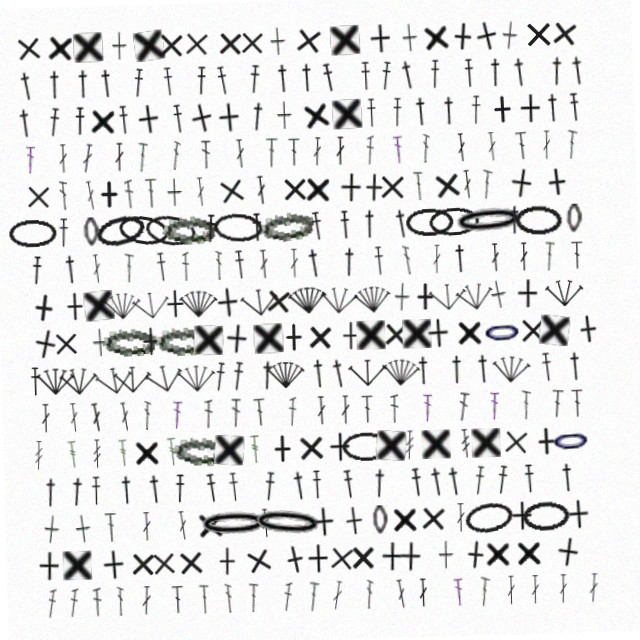chain: (245, 504, 319, 540), (455, 209, 528, 242), (96, 206, 150, 245), (192, 507, 264, 536), (146, 207, 200, 245), (119, 207, 174, 244), (261, 208, 318, 243), (457, 504, 510, 540), (215, 209, 267, 242), (169, 432, 224, 463), (165, 211, 219, 241), (155, 322, 209, 352), (431, 210, 483, 241), (102, 322, 156, 351), (517, 211, 566, 241), (516, 507, 565, 537), (338, 433, 388, 462), (11, 211, 60, 240), (408, 211, 457, 240), (547, 432, 588, 463), (482, 322, 522, 352), (86, 211, 102, 240), (569, 211, 585, 240), (367, 507, 382, 536)
double: (85, 137, 99, 167), (87, 396, 101, 426), (454, 396, 468, 426), (298, 581, 312, 611), (520, 137, 534, 166), (548, 396, 562, 425), (140, 137, 153, 167), (88, 174, 101, 204), (484, 174, 497, 204), (116, 396, 129, 426), (323, 581, 336, 611), (387, 581, 400, 611), (470, 581, 483, 611), (270, 137, 283, 166), (570, 137, 583, 166), (544, 248, 557, 277), (251, 396, 264, 425), (99, 507, 112, 536), (239, 137, 251, 166), (293, 137, 305, 166), (491, 137, 503, 166), (149, 174, 161, 203), (259, 174, 271, 203), (573, 248, 585, 277), (359, 396, 371, 425), (569, 396, 581, 425), (171, 507, 183, 536), (164, 581, 176, 610), (239, 581, 251, 610), (580, 581, 592, 610), (175, 137, 186, 166), (461, 137, 472, 166), (199, 174, 210, 203), (466, 174, 477, 203), (93, 248, 104, 277), (125, 248, 136, 277), (260, 248, 271, 277), (66, 396, 77, 425), (169, 396, 180, 425), (228, 396, 239, 425), (518, 396, 529, 425), (133, 581, 144, 610), (30, 137, 40, 166), (63, 137, 73, 166), (119, 137, 129, 166), (206, 137, 216, 166), (317, 137, 327, 166), (340, 137, 350, 166), (398, 137, 408, 166), (128, 174, 138, 203), (417, 174, 427, 203), (291, 248, 301, 277), (404, 248, 414, 277), (492, 248, 502, 277), (38, 396, 48, 425), (314, 396, 324, 425), (338, 396, 348, 425), (420, 396, 430, 425), (487, 396, 497, 425), (136, 507, 146, 536), (255, 507, 265, 536), (450, 507, 460, 536), (39, 581, 49, 610), (61, 581, 71, 610), (191, 581, 201, 610), (275, 581, 285, 610), (446, 581, 456, 610), (426, 137, 435, 166), (547, 137, 556, 166), (434, 248, 443, 277), (521, 248, 530, 277), (140, 396, 149, 425), (85, 581, 94, 610), (357, 581, 366, 610), (411, 581, 420, 610), (499, 581, 508, 610), (523, 581, 532, 610), (551, 581, 560, 610), (371, 137, 379, 166), (63, 174, 71, 203), (202, 396, 210, 425), (286, 396, 294, 425), (388, 396, 396, 425), (217, 581, 225, 610), (184, 248, 191, 277), (217, 248, 224, 277), (109, 581, 116, 610)
fan: (142, 356, 184, 391), (92, 357, 134, 391), (455, 283, 496, 317), (131, 283, 172, 316), (240, 284, 280, 316), (320, 284, 360, 316), (353, 284, 393, 316), (380, 358, 420, 390), (490, 358, 530, 390), (289, 284, 328, 315), (429, 284, 468, 315), (180, 285, 218, 315), (58, 359, 96, 389), (176, 359, 214, 389), (104, 285, 142, 314), (546, 285, 584, 314), (35, 359, 73, 388), (112, 359, 150, 388), (265, 359, 303, 388), (347, 359, 385, 388)
half_double: (405, 62, 425, 93), (24, 63, 43, 93), (254, 100, 273, 130), (395, 211, 414, 241), (328, 359, 347, 389), (63, 470, 82, 500), (423, 470, 442, 500), (518, 63, 536, 93), (555, 63, 573, 93), (576, 63, 594, 93), (22, 100, 40, 130), (307, 248, 325, 278), (342, 248, 360, 278), (257, 359, 275, 389), (37, 470, 55, 500), (286, 470, 304, 500), (366, 470, 384, 500), (441, 470, 459, 500), (53, 63, 70, 92), (105, 63, 122, 92), (494, 63, 511, 92), (364, 211, 381, 240), (509, 211, 526, 240), (64, 248, 81, 277), (309, 359, 326, 388), (447, 359, 464, 388), (142, 470, 159, 499), (82, 63, 98, 92), (282, 63, 298, 92), (306, 63, 322, 92), (419, 100, 435, 129), (447, 100, 463, 129), (551, 100, 567, 129), (454, 248, 470, 277), (414, 359, 430, 388), (474, 359, 490, 388), (566, 359, 582, 388), (114, 470, 130, 499), (555, 470, 571, 499), (222, 63, 237, 93), (328, 63, 343, 93), (211, 359, 226, 389), (229, 359, 244, 389), (467, 470, 482, 500), (490, 470, 505, 500), (138, 63, 152, 93), (386, 63, 400, 93), (53, 100, 67, 130), (177, 100, 191, 130), (313, 211, 327, 241), (200, 470, 214, 500), (258, 470, 272, 500), (337, 470, 351, 500), (405, 470, 419, 500), (169, 63, 182, 92), (255, 63, 268, 92), (123, 100, 136, 129), (574, 100, 587, 129), (32, 248, 45, 277), (157, 248, 170, 277), (235, 248, 248, 277), (539, 359, 552, 388), (223, 470, 236, 499), (202, 63, 214, 92), (436, 63, 448, 92), (470, 63, 482, 92), (397, 100, 409, 129), (476, 100, 488, 129), (60, 211, 72, 240), (207, 211, 219, 240), (342, 211, 354, 240), (375, 248, 387, 277), (169, 470, 181, 499), (519, 470, 531, 499), (367, 63, 378, 92), (80, 100, 91, 129), (372, 100, 383, 129), (254, 211, 265, 240), (28, 359, 39, 388), (86, 470, 97, 499), (307, 470, 318, 499)
single: (235, 542, 269, 576), (300, 24, 333, 57), (556, 24, 589, 57), (219, 172, 252, 205), (272, 542, 305, 575), (141, 25, 173, 57), (435, 173, 467, 205), (28, 284, 60, 316), (263, 284, 295, 316), (538, 321, 570, 353), (319, 543, 351, 575), (453, 543, 485, 575), (307, 99, 338, 131), (21, 25, 52, 56), (189, 25, 220, 56), (455, 25, 486, 56), (545, 173, 576, 204), (84, 284, 115, 315), (380, 321, 411, 352), (572, 321, 603, 352), (210, 432, 241, 463), (372, 432, 403, 463), (497, 432, 528, 463), (333, 506, 364, 537), (412, 506, 443, 537), (81, 26, 111, 56), (164, 26, 194, 56), (223, 26, 253, 56), (245, 26, 275, 56), (338, 26, 368, 56), (338, 100, 368, 130), (27, 174, 57, 204), (363, 174, 393, 204), (381, 174, 411, 204), (193, 322, 223, 352), (253, 322, 283, 352), (121, 544, 151, 574), (142, 544, 172, 574), (169, 544, 199, 574), (54, 25, 83, 56), (430, 25, 459, 56), (31, 320, 58, 353), (305, 322, 334, 352), (481, 25, 508, 57), (194, 99, 221, 131), (532, 26, 561, 55), (494, 100, 523, 129), (284, 174, 313, 203), (61, 285, 90, 314), (161, 285, 190, 314), (411, 285, 440, 314), (51, 322, 80, 351), (136, 322, 165, 351), (279, 322, 308, 351), (336, 322, 365, 351), (356, 322, 385, 351), (402, 322, 431, 351), (518, 322, 547, 351), (264, 433, 293, 462), (293, 433, 322, 462), (418, 433, 447, 462), (468, 433, 497, 462), (528, 433, 557, 462), (56, 544, 85, 573), (206, 544, 235, 573), (95, 100, 123, 130), (308, 174, 336, 204), (512, 173, 538, 205), (548, 543, 574, 575), (99, 174, 127, 203), (191, 507, 219, 536), (342, 544, 370, 573), (456, 322, 483, 351), (130, 433, 157, 462), (386, 507, 413, 536), (478, 544, 505, 573), (509, 544, 536, 573), (142, 99, 166, 130), (224, 321, 248, 352), (216, 285, 240, 315), (223, 100, 246, 130), (306, 507, 329, 537), (95, 544, 118, 574), (392, 544, 415, 574), (343, 174, 366, 203), (426, 322, 449, 351), (561, 507, 584, 536), (377, 26, 399, 55), (525, 100, 547, 129), (517, 285, 539, 314), (325, 433, 347, 462), (505, 507, 527, 536), (31, 544, 53, 573), (300, 544, 322, 573), (374, 544, 396, 573), (490, 284, 509, 315), (509, 26, 527, 56), (37, 507, 55, 537), (69, 507, 86, 537), (278, 26, 294, 55), (410, 26, 426, 55), (395, 285, 411, 314), (92, 322, 108, 351), (120, 26, 135, 55), (283, 100, 298, 129), (171, 174, 186, 203), (432, 544, 447, 573)
treble: (63, 433, 76, 462), (114, 433, 126, 462), (163, 433, 175, 462), (456, 433, 468, 462), (246, 433, 257, 462), (30, 433, 40, 462), (401, 433, 411, 462), (89, 433, 98, 462)
